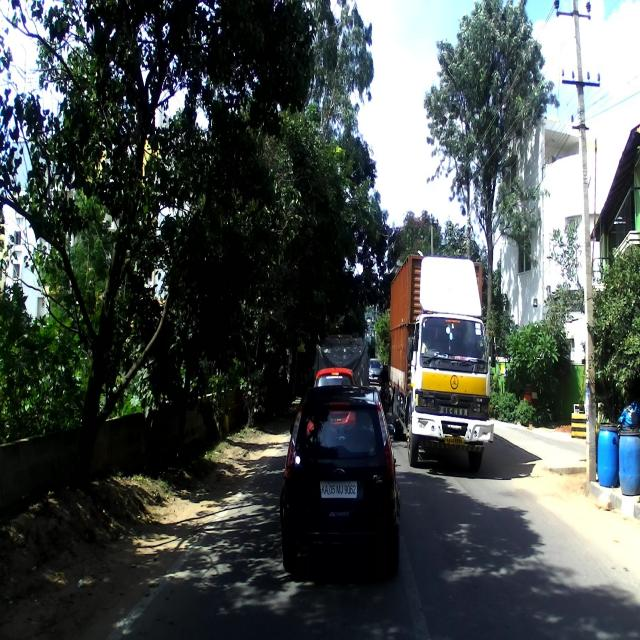car: (278, 366, 402, 574)
truck: (383, 247, 499, 477)
